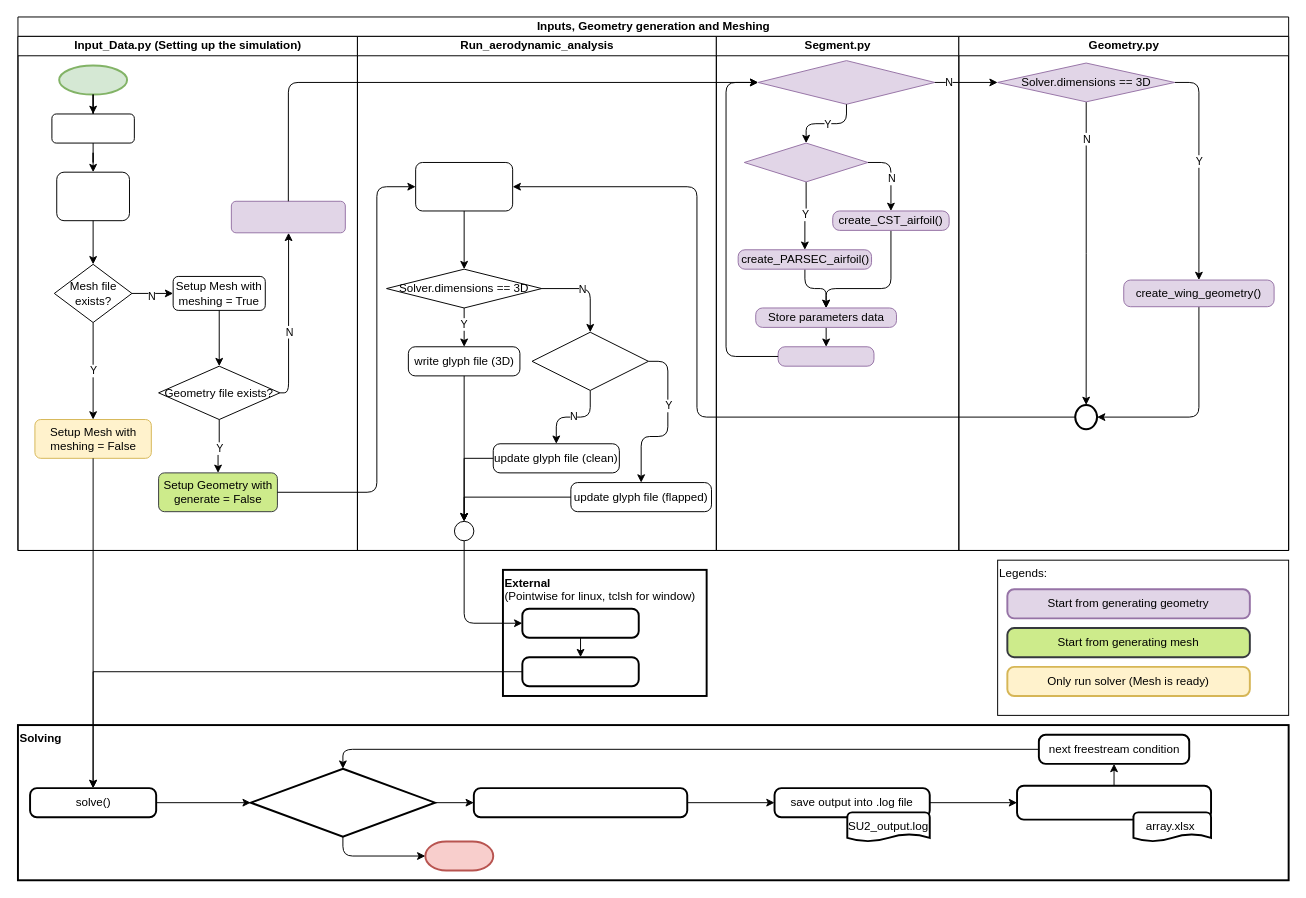
This 1306x898 diagram has some shape labels left out. The centre of each missing label's shape, as x and y in pixels:
"calculate initial step size" goes at point (464, 186).
"End" goes at point (459, 855).
"Generate .su2 file" goes at point (580, 671).
"Is flapped airfoil?" goes at point (589, 360).
"Is PARSEC airfoil?" goes at point (805, 162).
"Is there a next freestream condition?" goes at point (342, 802).
"is there a next segment?" goes at point (846, 82).
"next segment" goes at point (825, 356).
"read glyph file" goes at point (580, 622).
"run solver parallely (using SU2_CFD)" goes at point (580, 802).
"Setup Freestream Condition(s)" goes at point (92, 196).
"Setup Geometry with generate = True" goes at point (287, 216).
"Setup Solver" goes at point (92, 128).
"Start" goes at point (93, 79).
"write output from .log file into excel" goes at point (1114, 802).
